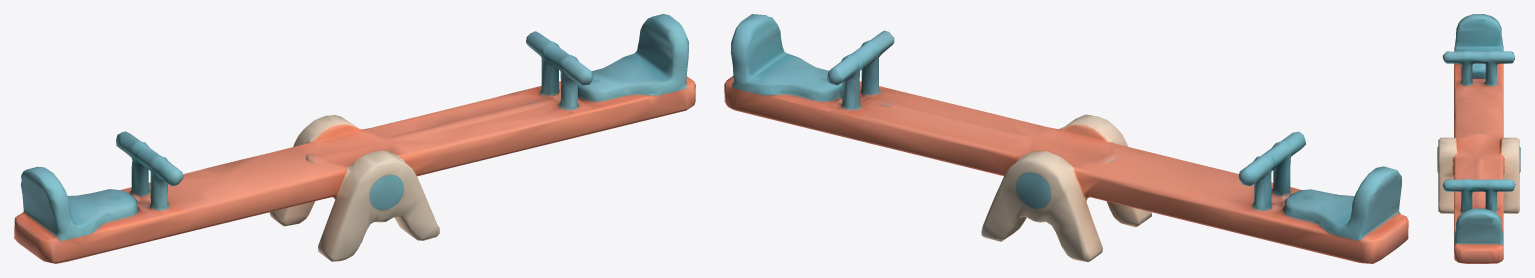
Rendered from Meshy_AI_Seesaw_Balance_0107223003_texture.fbx.
3 views of the same model, side by side, from view 1: azimuth 30°, elevation 25°; view 2: azimuth 150°, elevation 25°; view 3: azimuth 270°, elevation 25° (orthographic). The views are drawn at different scales.
Visible parts, largest first — view 1: Mesh_0; view 2: Mesh_0; view 3: Mesh_0.
Boxes of the visible parts, x1,y1,x2,y2 form: Mesh_0: (14, 14, 695, 263); Mesh_0: (724, 14, 1408, 263); Mesh_0: (1437, 14, 1520, 263).
Size of the model in its own units: 193 by 37.25 by 33.3.
Materials: 1 (1 with a texture image).
